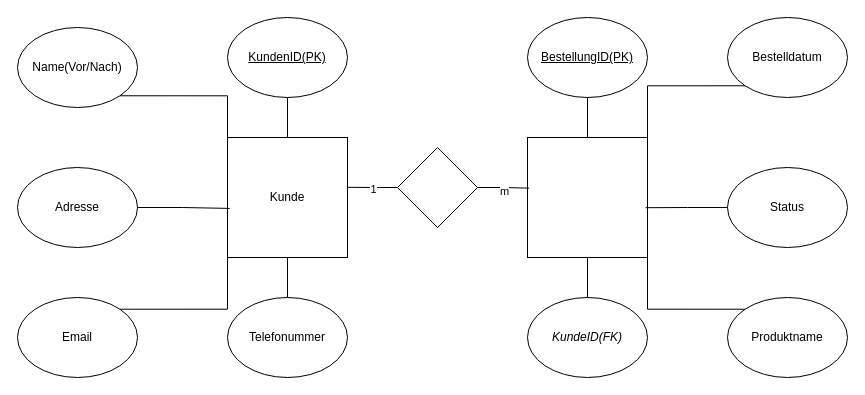
This 865x395 diagram has some shape labels left out. The centre of each missing label's shape, as x and y in pixels:
"bestellt" belongs at (437,187).
"Bestellung" belongs at (587,197).
